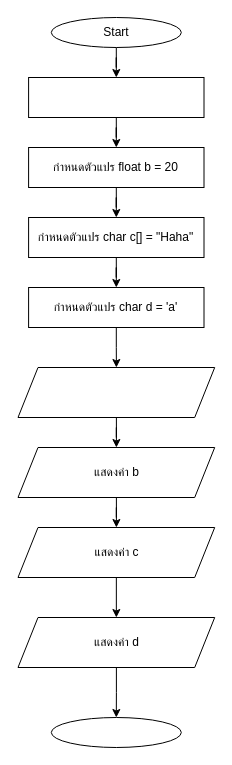
This 232x765 diagram has some shape labels left out. The shapes that lost their labels are listed below. From the top down, each one's box as (x1, y1, x2, y2) in pixels, then its label:
(28, 76, 204, 118): กำหนดตัวแปร int a = 10
(17, 366, 215, 418): แสดงค่า a
(50, 716, 181, 748): End
